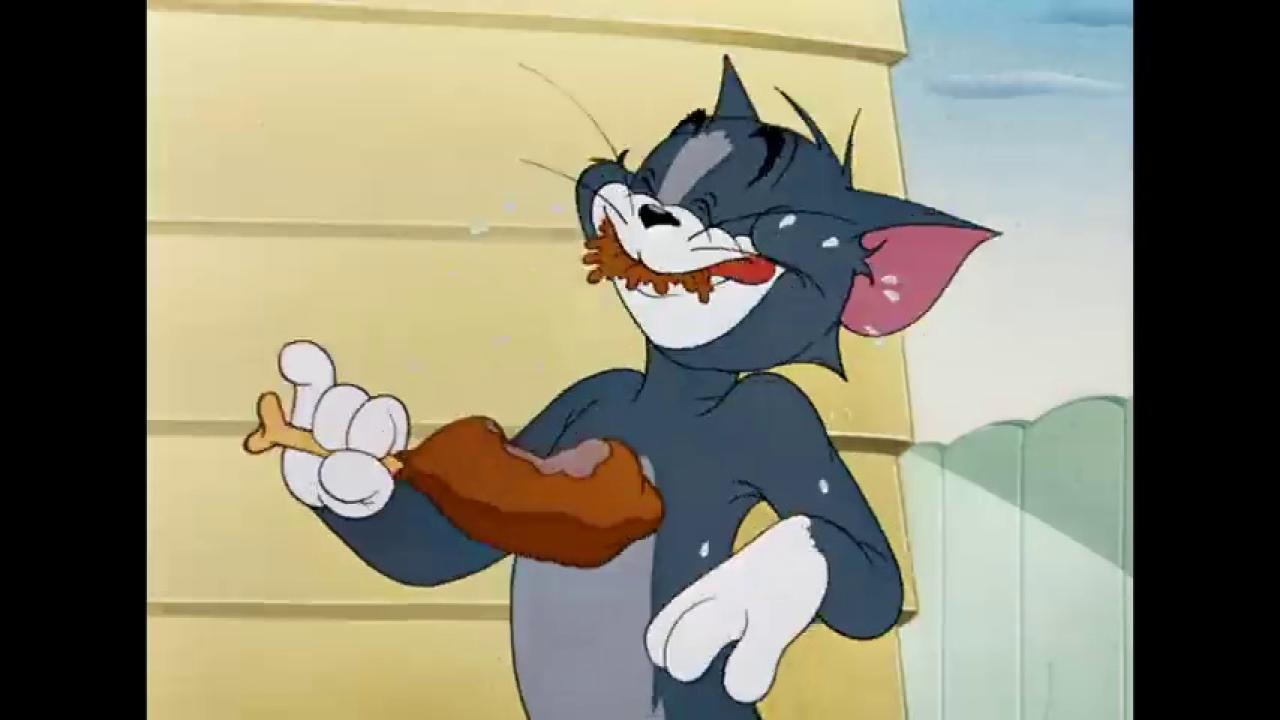Tom: (276, 46, 1006, 720)
